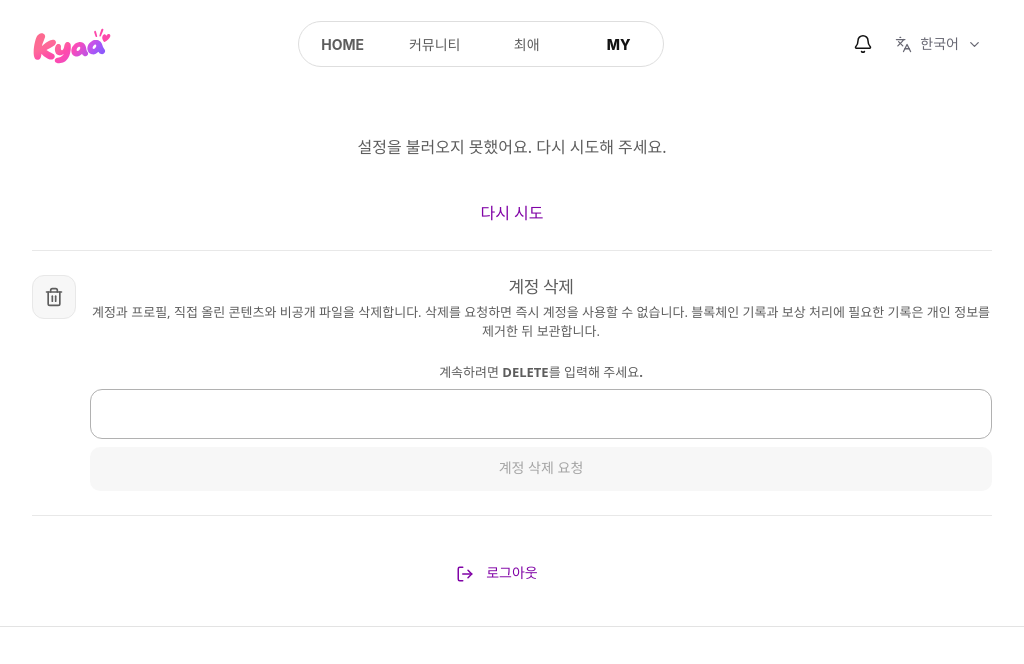
Scenario: FAN-020 settings › leaves loading for a retryable error when the initial access token is missing
The image size is (1024, 664).
Expected: the text "설정을 불러오지 못했어요. 다시 시도해 주세요." is shown, [358,134,667,158]
Click the button "다시 시도" at coordinates (512, 212), box [474,190,550,234]
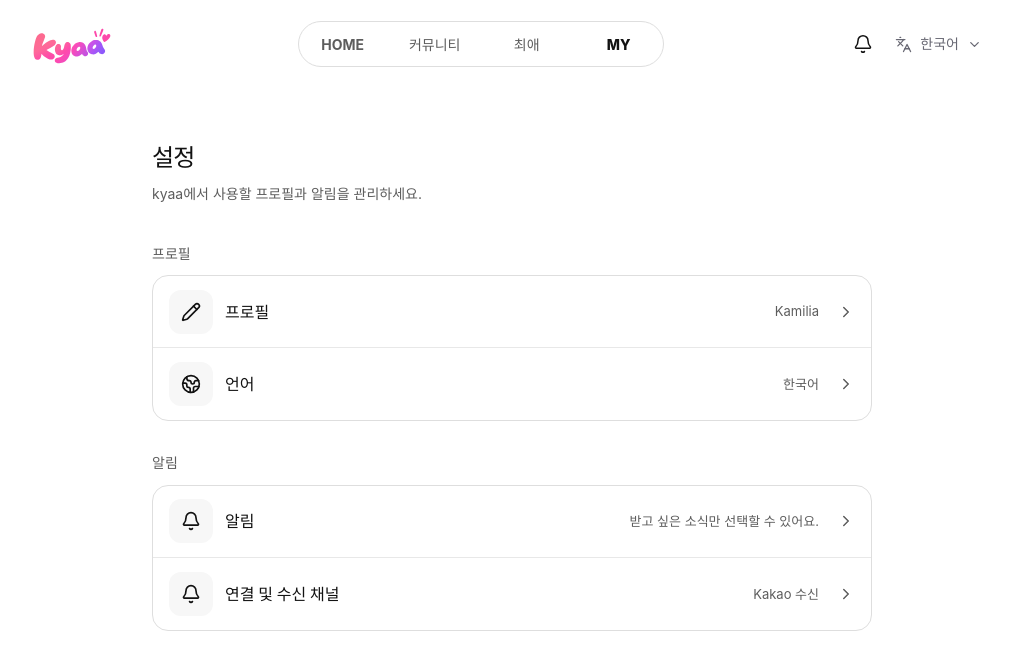
Expected: the text "Kamilia" is shown, [775,302,819,321]
